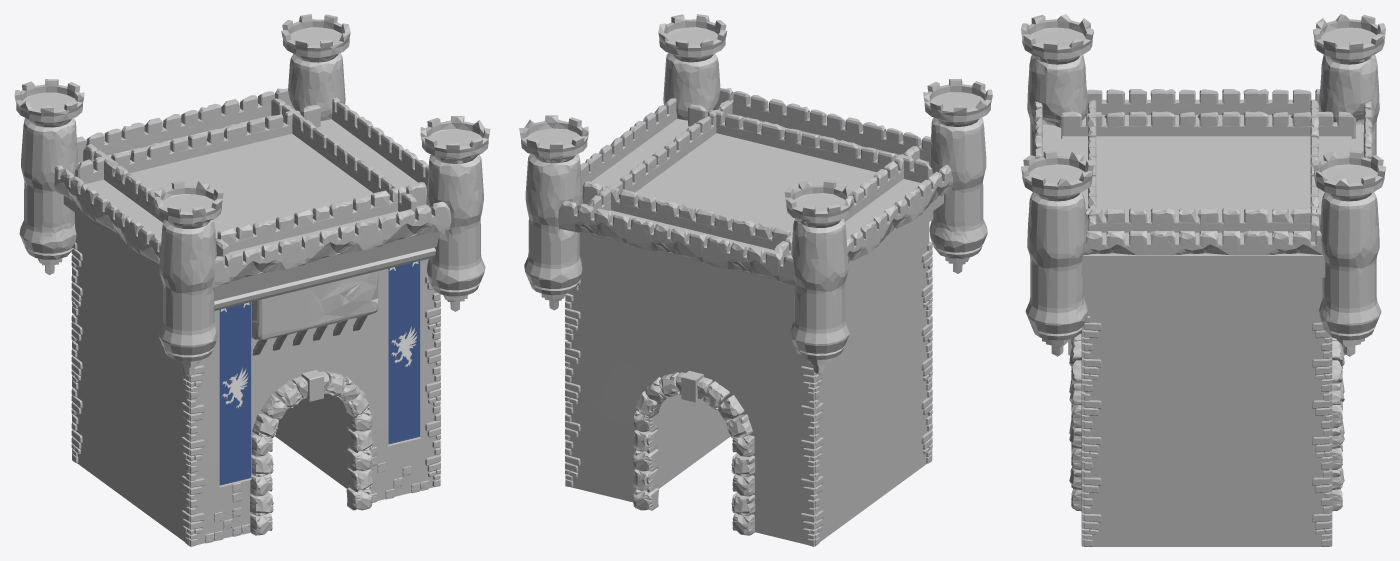
The model's file is SM_gatehouse_large.fbx.
The picture shows the model from 3 angles, left to right: view 1: azimuth 30°, elevation 25°; view 2: azimuth 150°, elevation 25°; view 3: azimuth 270°, elevation 25°; orthographic projection. The views are drawn at different scales.
Parts seen in each view (by area): view 1: gatehouse_large; view 2: gatehouse_large; view 3: gatehouse_large.
Part boxes in pixels (left/top/right/bottom): gatehouse_large: left=14, top=14, right=490, bottom=546; gatehouse_large: left=519, top=14, right=992, bottom=546; gatehouse_large: left=1021, top=14, right=1385, bottom=546.
Bounding box in the file's own units: 1864 × 1997 × 1716.
